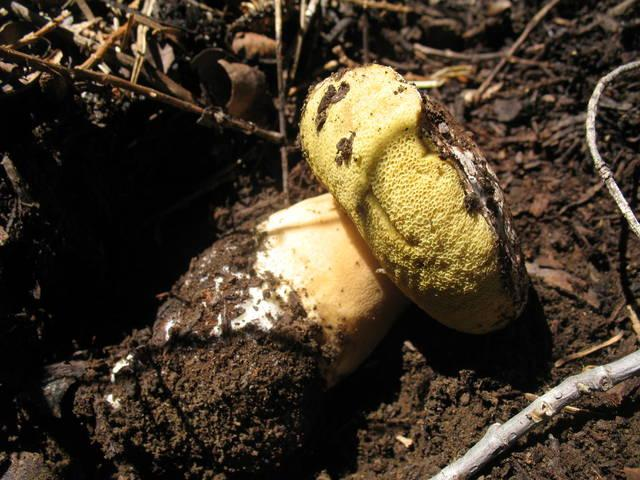edible_mushroom: (78, 61, 532, 477)
